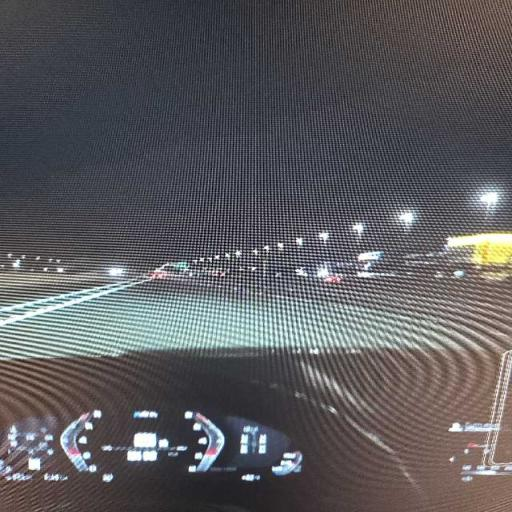car: (149, 270, 167, 279), (324, 275, 343, 283)
lane: (0, 283, 509, 358), (0, 278, 150, 327)
